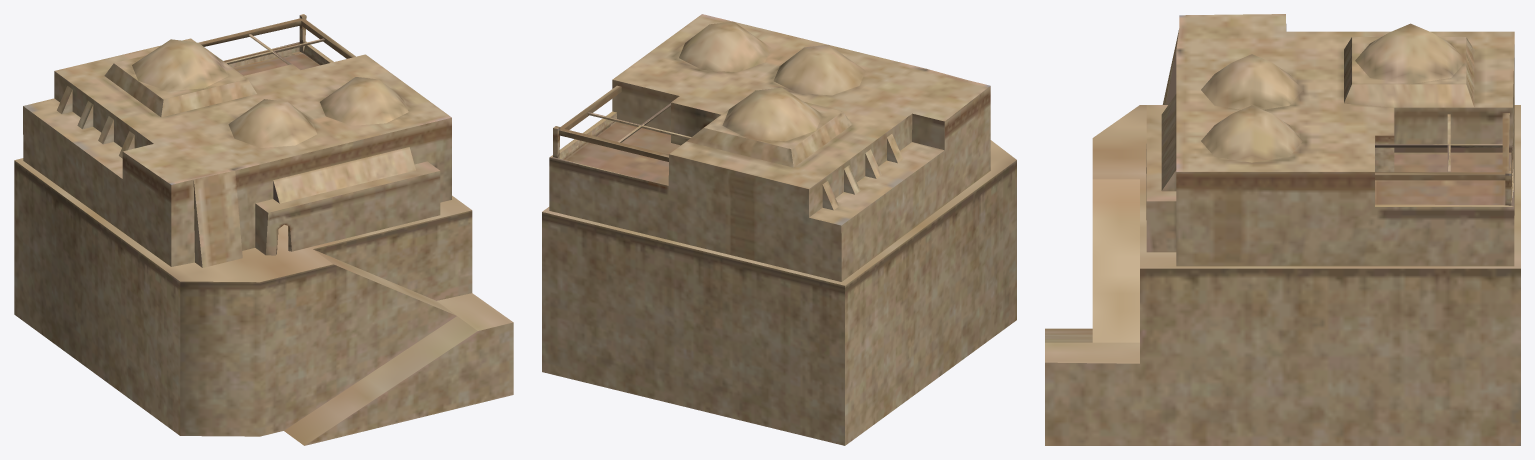
Rendered from ply_tato_house_lg_s01_fp1_r0_mesh_l3.fbx.
3 views of the same model, side by side, from view 1: azimuth 30°, elevation 25°; view 2: azimuth 150°, elevation 25°; view 3: azimuth 270°, elevation 25° (orthographic). The views are drawn at different scales.
Parts seen in each view (by area): view 1: mesh_node; view 2: mesh_node; view 3: mesh_node.
Part boxes in pixels (x1,y1,x2,y2): mesh_node: [14, 14, 513, 445]; mesh_node: [542, 14, 1016, 445]; mesh_node: [1045, 14, 1520, 445].
Bounding box in the file's own units: 32.67 × 29.37 × 40.11.
